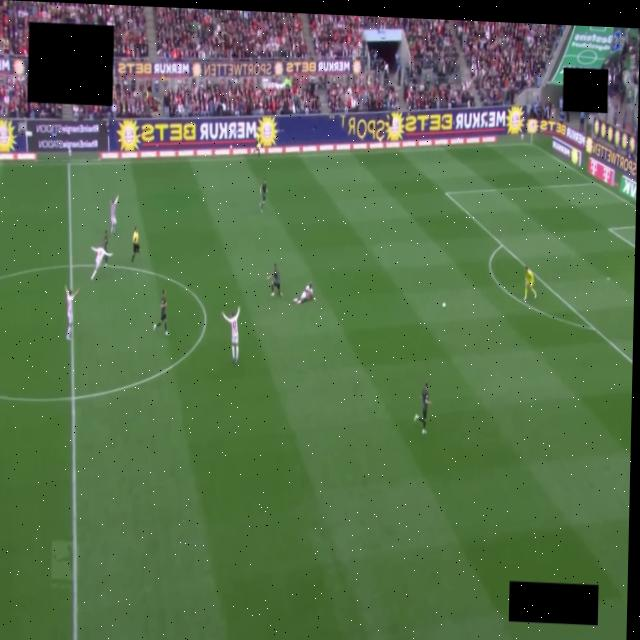ball: (442, 303, 445, 307)
player: (222, 307, 239, 362), (414, 381, 430, 434), (153, 290, 168, 336), (65, 286, 78, 339), (90, 247, 110, 279), (267, 264, 281, 297), (293, 284, 315, 304), (524, 267, 535, 300), (110, 196, 118, 235), (259, 179, 266, 211), (102, 231, 107, 251)
referee: (131, 226, 141, 263)
